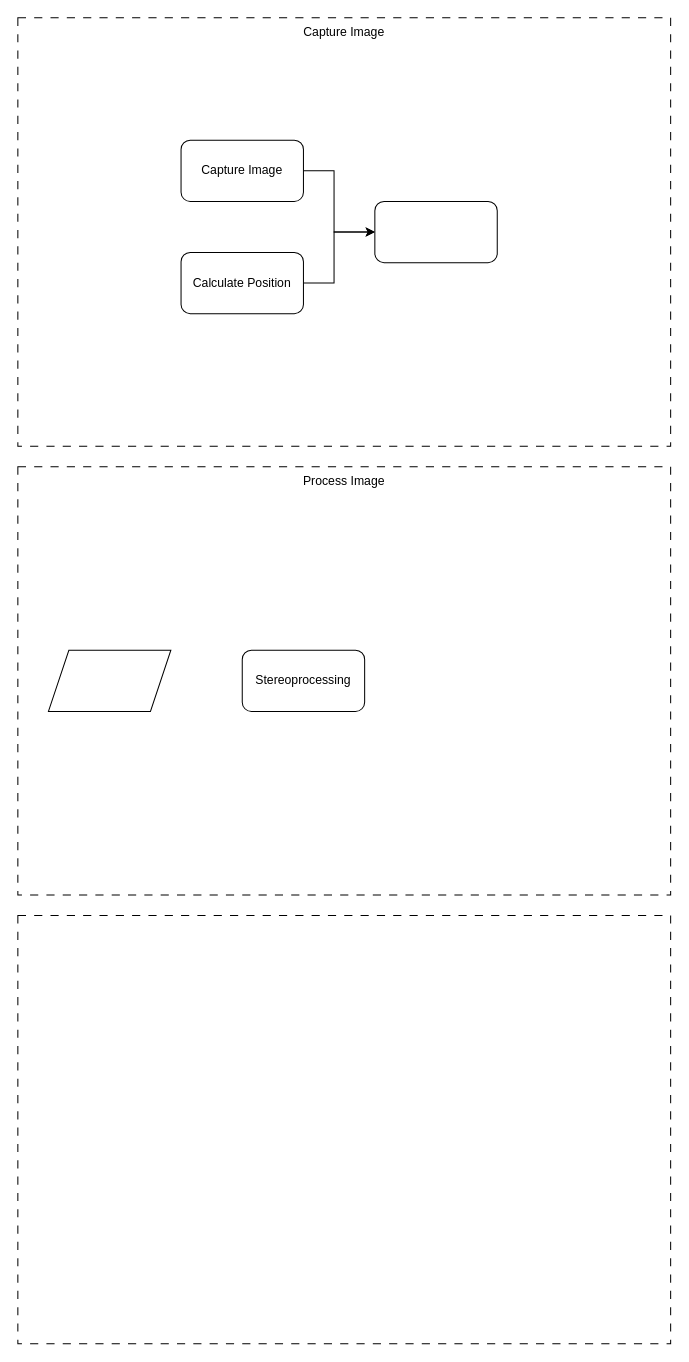
This 689x1362 diagram has some shape labels left out. Each missing label, with the centre of its shape:
"Camera Values" goes at (109,680).
"Correlate image and position" goes at (435,231).
"Create 3D Model" goes at (344,1129).
